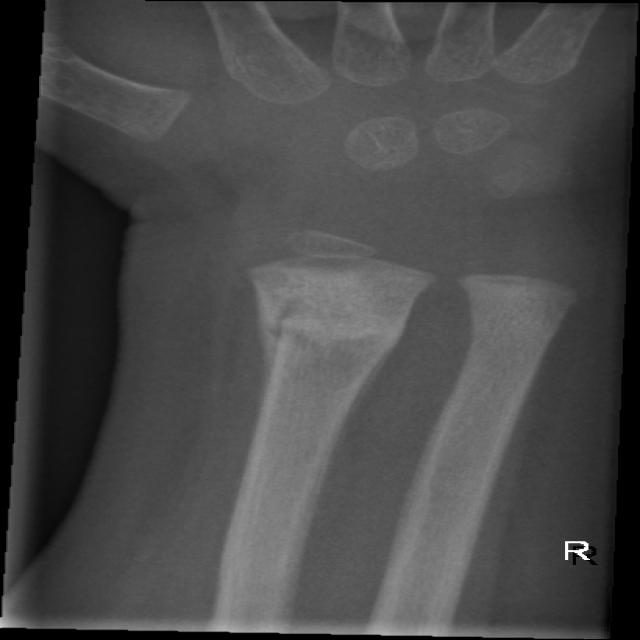radius fracture: (229, 281, 407, 461)
